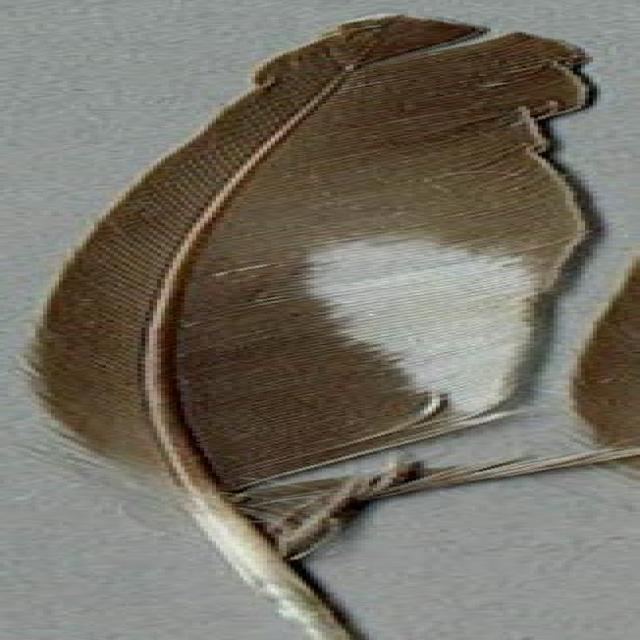feather: (39, 15, 640, 640)
